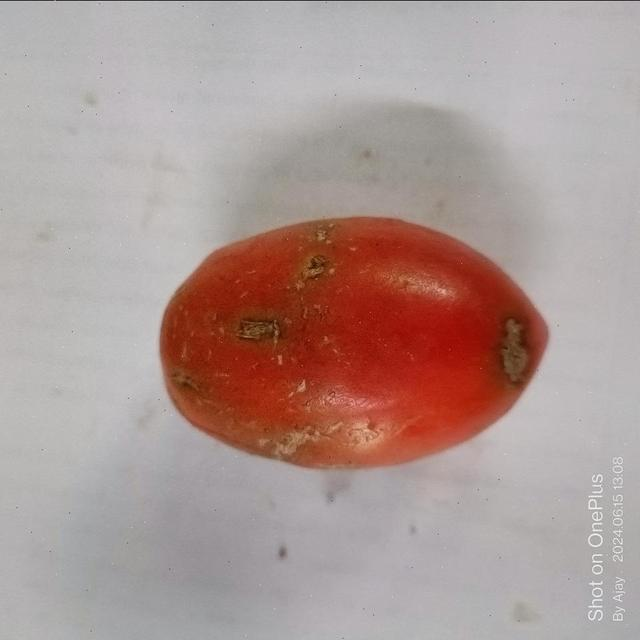Bacterial Spot Fruit: (21, 20, 341, 231)
